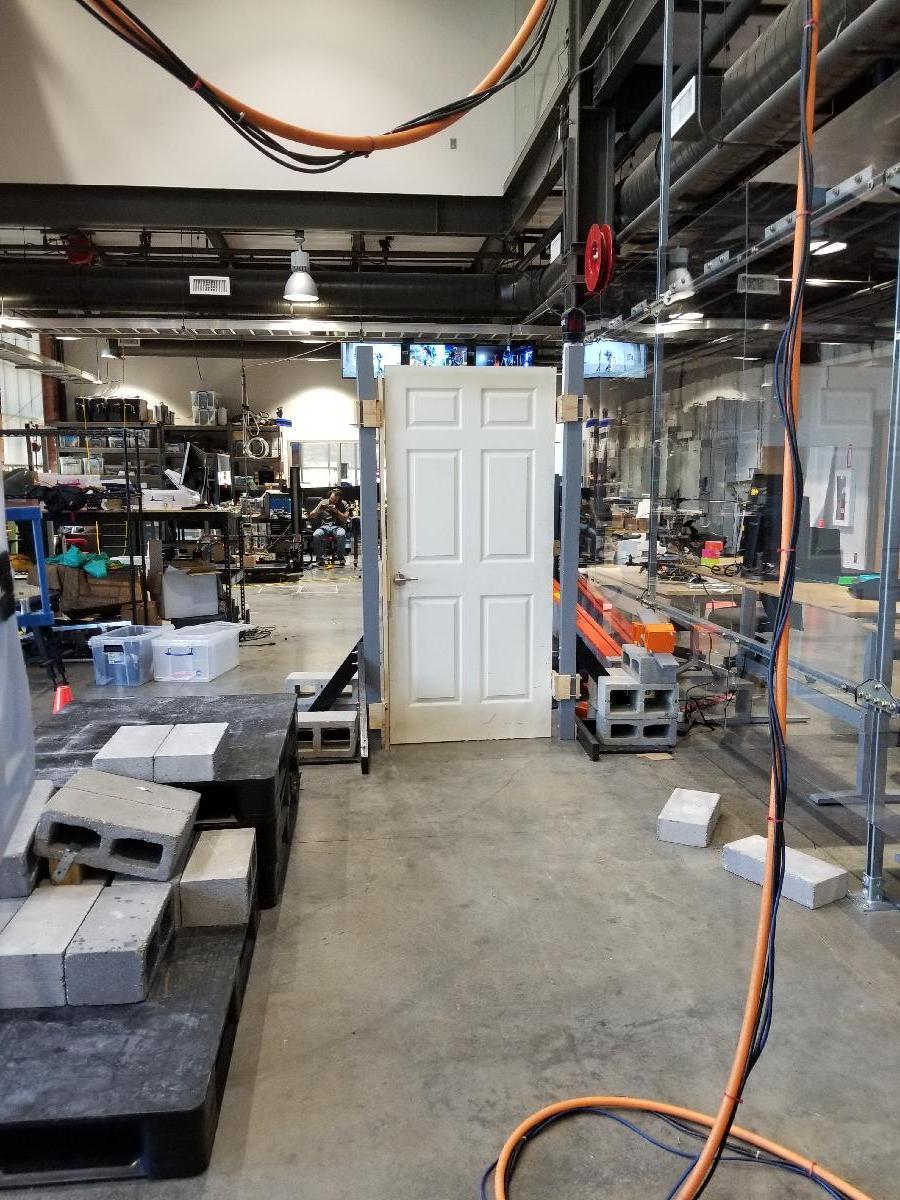door: (383, 365, 554, 739)
handle: (390, 570, 422, 587)
